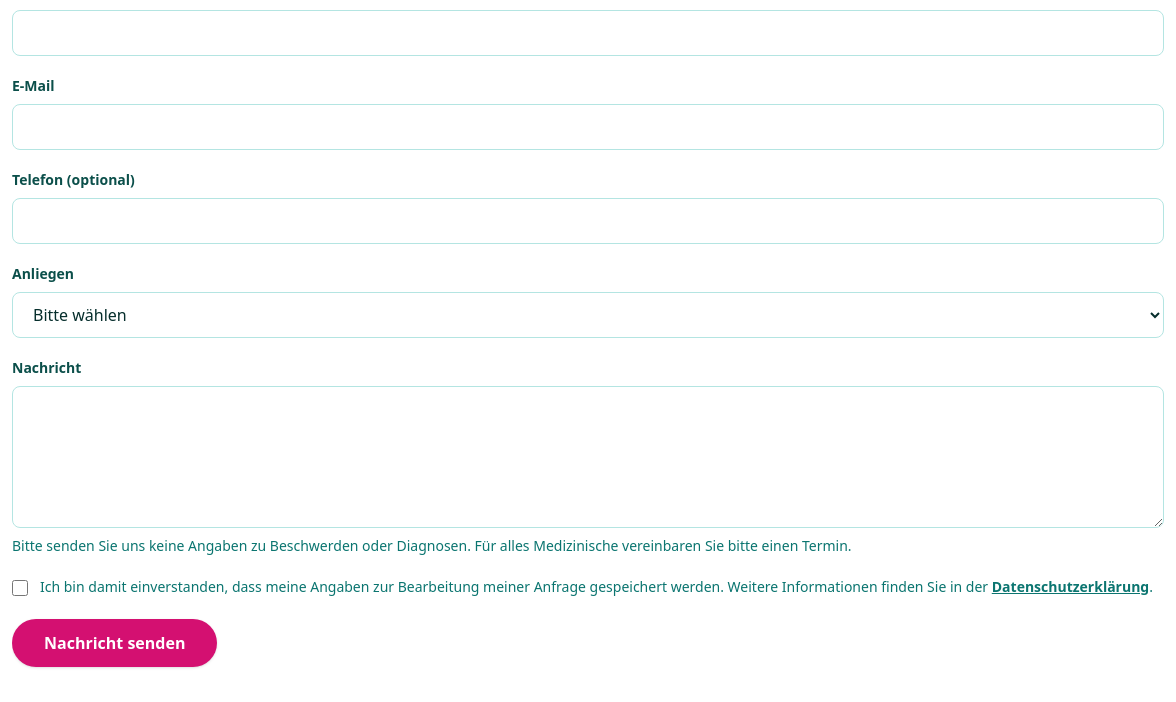
Test: ContactForm › renders the success state after a resolved {ok:true} response
Type "Maria Muster" into the field labelled "Name" at [588, 33], box top-left (12, 10), bottom-right (1164, 56)
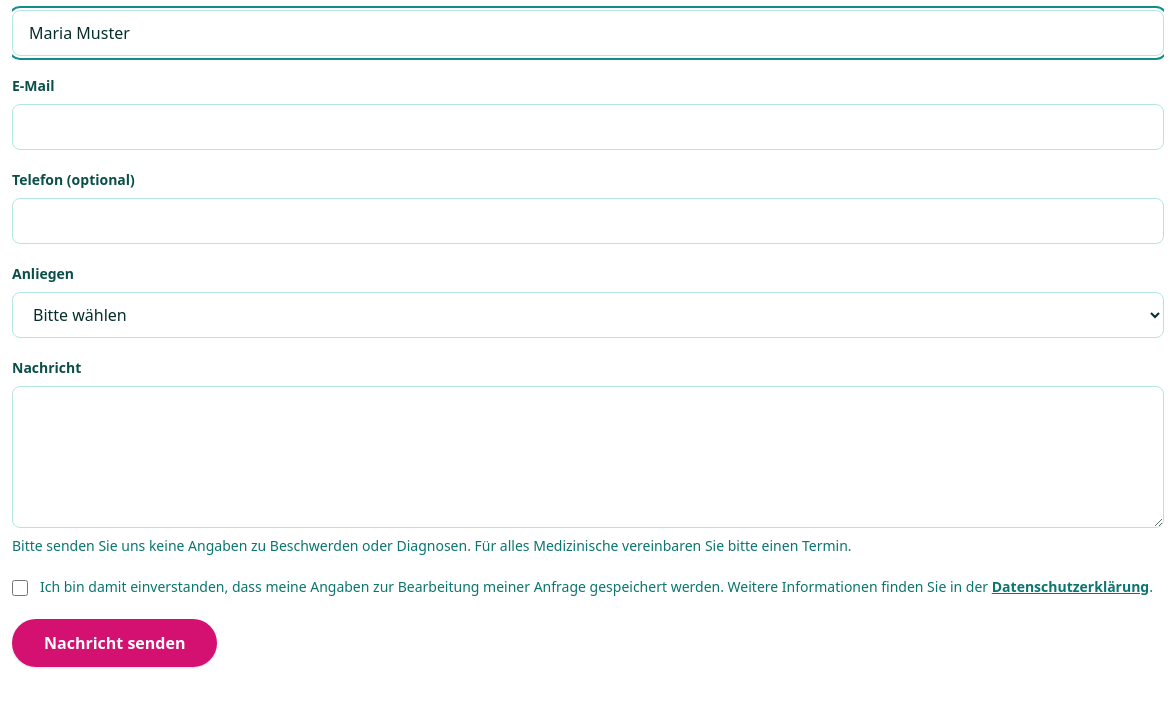
Type "maria@example.com" into the field labelled "E-Mail" at [588, 127], box top-left (12, 104), bottom-right (1164, 150)
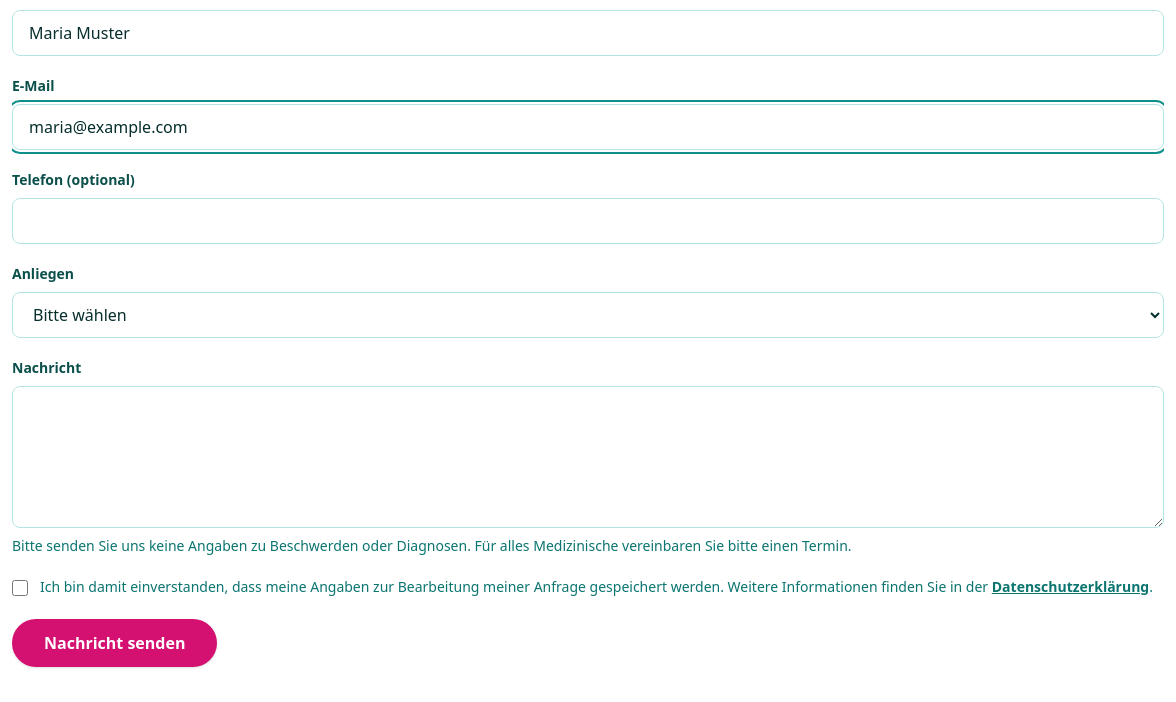
Type "Ich hätte gerne einen Rückruf." into the text box labelled "Nachricht" at [588, 457], box top-left (12, 386), bottom-right (1164, 528)
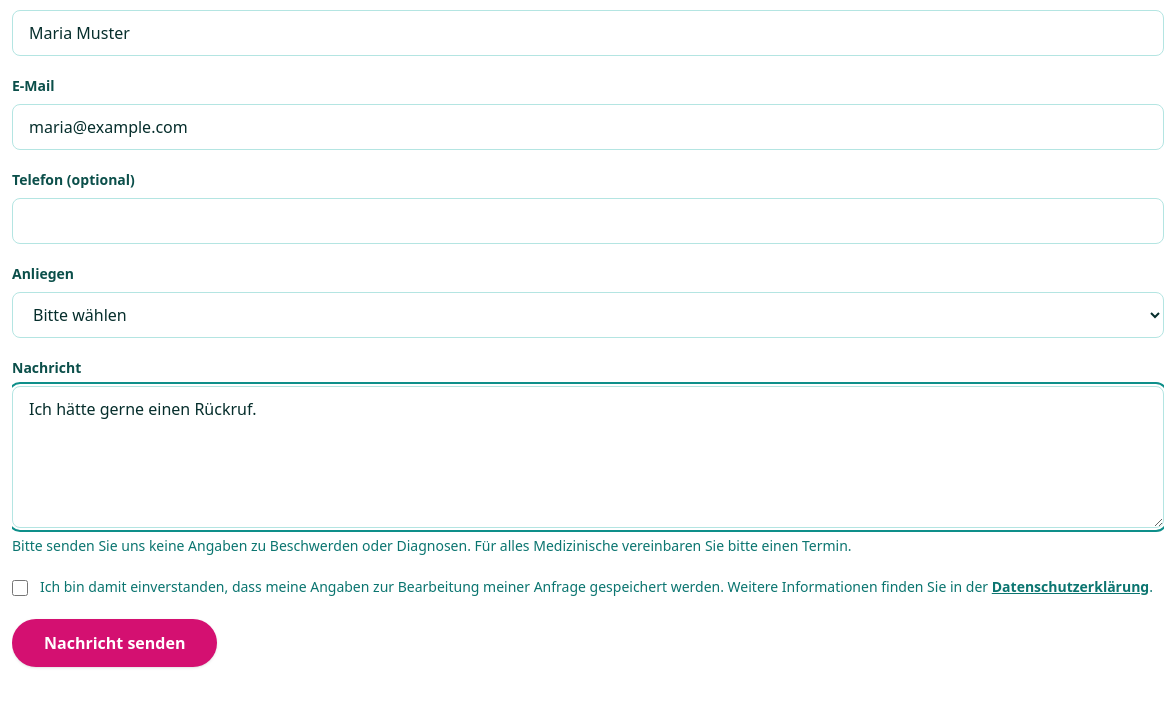
Click the checkbox labelled "Ich bin damit einverstanden" at [20, 588], box top-left (12, 580), bottom-right (28, 596)
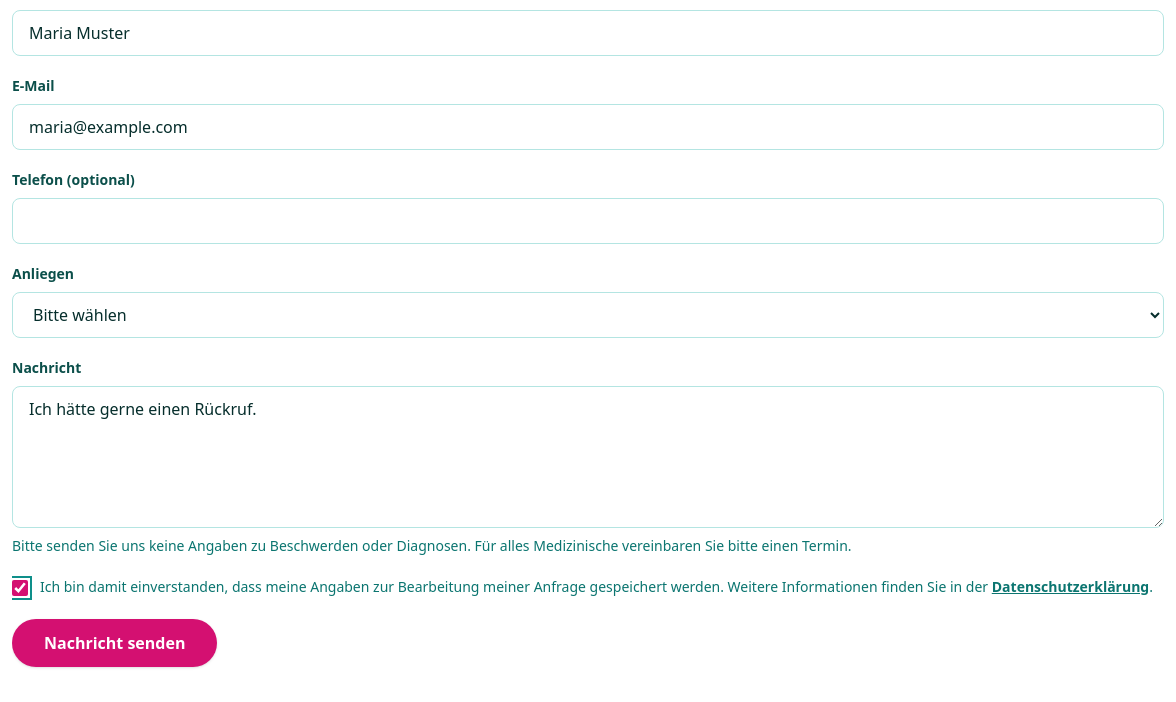
Click the button "Nachricht senden" at [115, 643], box top-left (12, 619), bottom-right (217, 667)
(page scrolled)
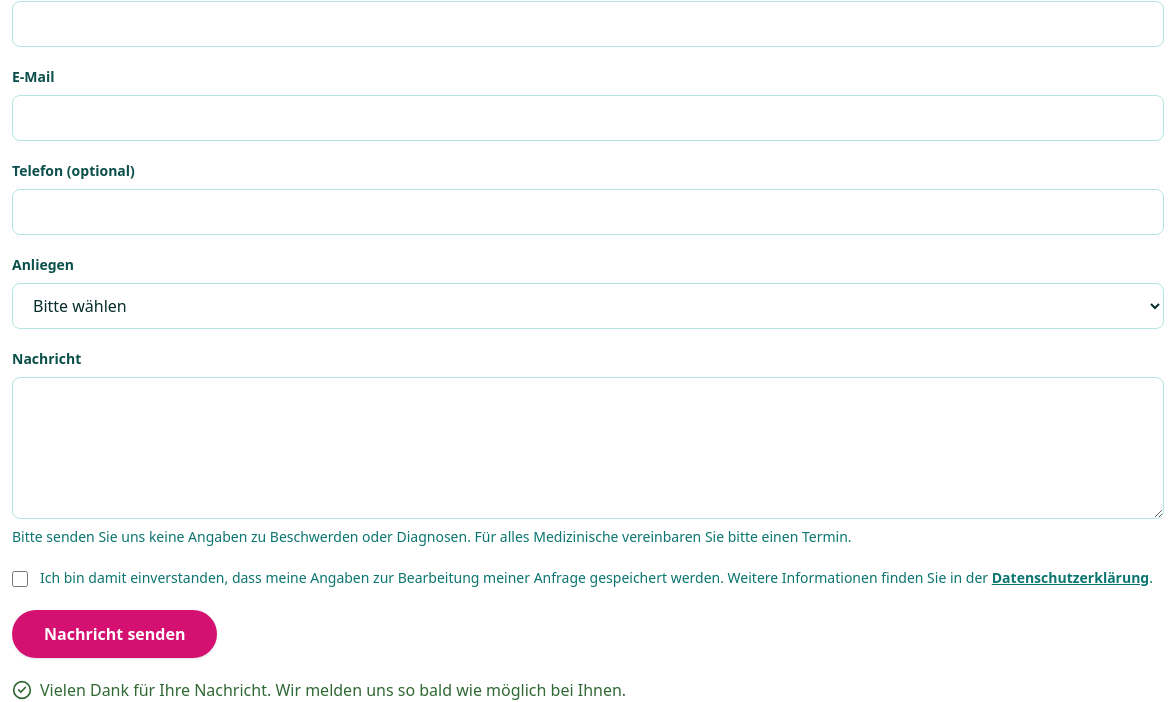
Check: the text "Vielen Dank für Ihre Nachricht" is shown, box top-left (40, 679), bottom-right (626, 701)
